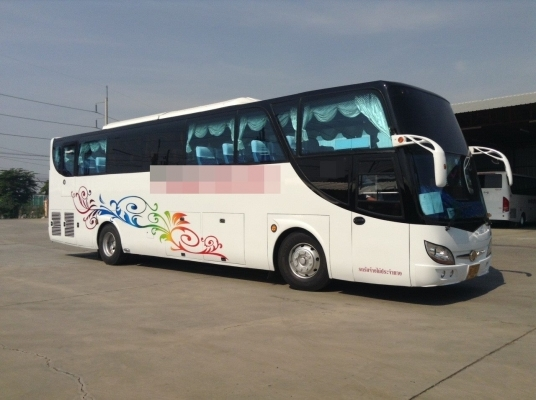bus: (48, 79, 494, 292)
